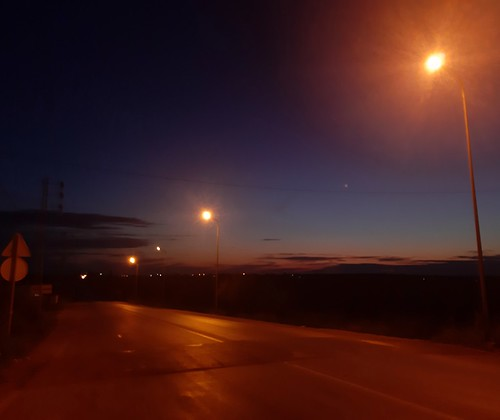light pole: (418, 56, 489, 334), (195, 212, 226, 315)
sky: (26, 1, 500, 254)
street: (1, 309, 497, 420)
